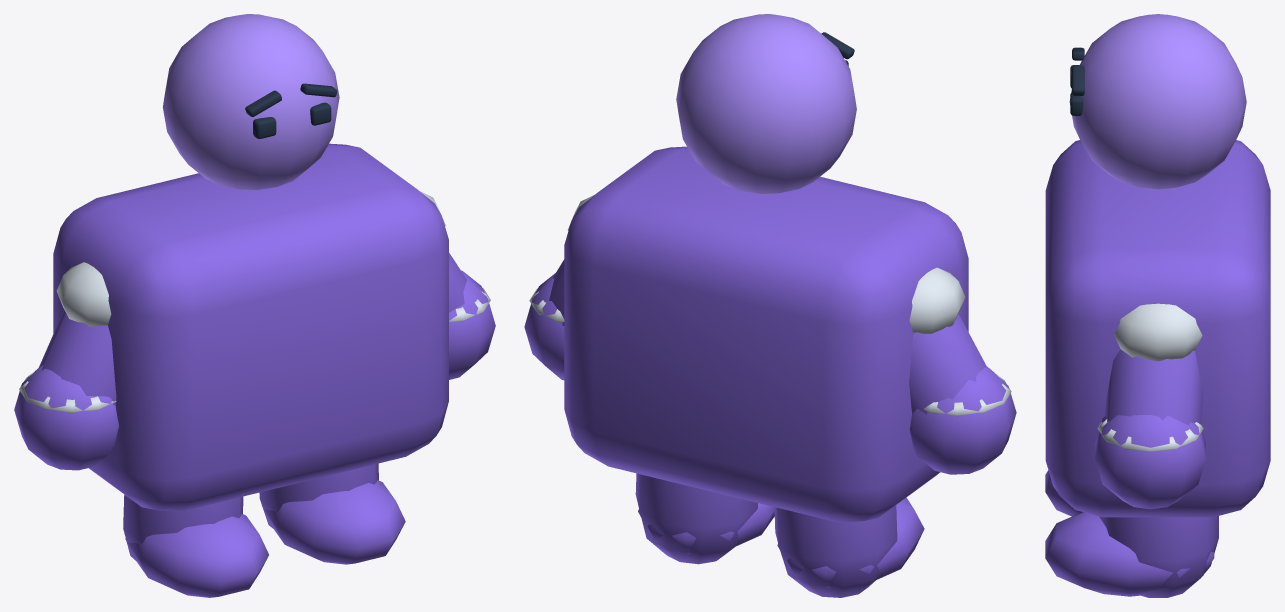
The model's file is BlockBrute.fbx.
3 renders of one model, left to right at view 1: azimuth 30°, elevation 25°; view 2: azimuth 150°, elevation 25°; view 3: azimuth 270°, elevation 25°, orthographic. The views are drawn at different scales.
Parts seen in each view (by area): view 1: Torso, Head, ArmR, LegR, LegL, ArmL; view 2: Torso, Head, ArmR, LegR, LegL, ArmL; view 3: Torso, Head, ArmL, LegL, LegR.
Boxes of the visible parts, x1,y1,x2,y2 form: Torso: [53, 143, 448, 511]; Head: [162, 14, 339, 190]; ArmR: [14, 262, 118, 470]; LegR: [123, 494, 268, 597]; LegL: [259, 463, 405, 564]; ArmL: [420, 191, 495, 379]; Torso: [564, 146, 968, 522]; Head: [676, 14, 856, 194]; ArmR: [909, 267, 1016, 474]; LegR: [774, 497, 924, 597]; LegL: [635, 473, 774, 564]; ArmL: [524, 195, 593, 380]; Torso: [1045, 140, 1270, 517]; Head: [1069, 14, 1246, 189]; ArmL: [1095, 303, 1205, 509]; LegL: [1045, 512, 1218, 597]; LegR: [1045, 470, 1081, 516].
Bounding box in the file's own units: 1.23 × 1.36 × 0.5168.
